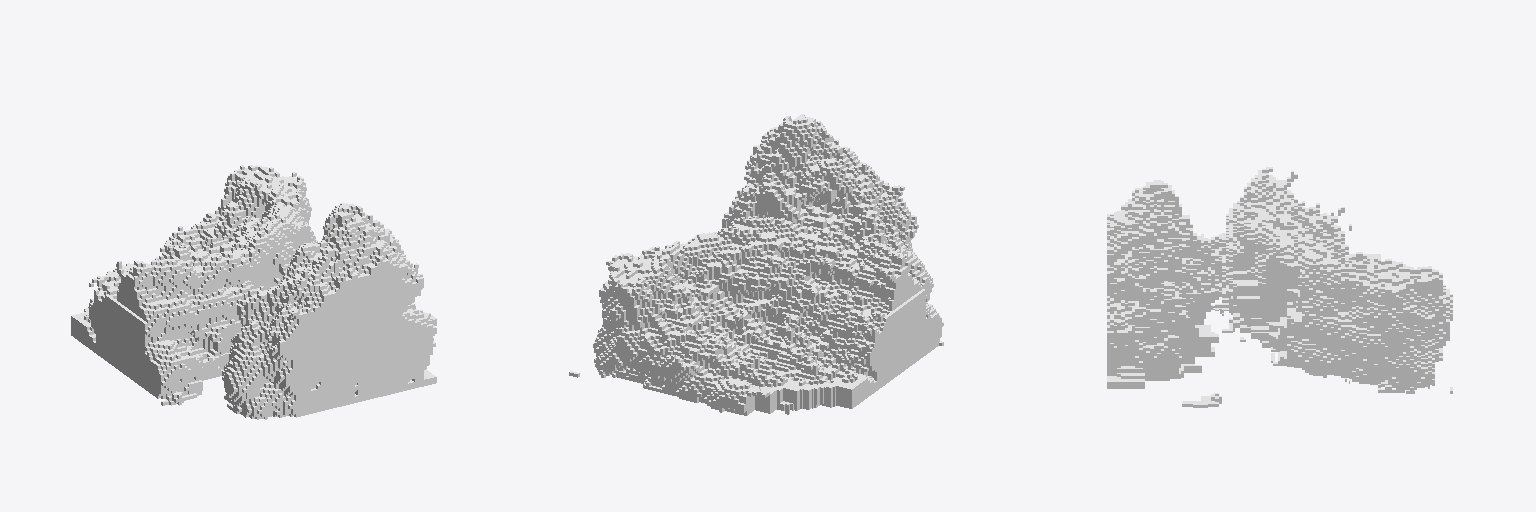
The model's file is Lava_stuff-11.obj.
3 views of the same model, side by side, from view 1: azimuth 30°, elevation 25°; view 2: azimuth 150°, elevation 25°; view 3: azimuth 270°, elevation 25° (orthographic).
Visible parts, largest first — view 1: object 1; view 2: object 1; view 3: object 1.
Boxes of the visible parts, x1=… form: object 1: x1=71, y1=165, x2=436, y2=419; object 1: x1=569, y1=114, x2=943, y2=415; object 1: x1=1107, y1=167, x2=1452, y2=407.
Bounding box in the file's own units: 17.2 × 10.6 × 19.2.